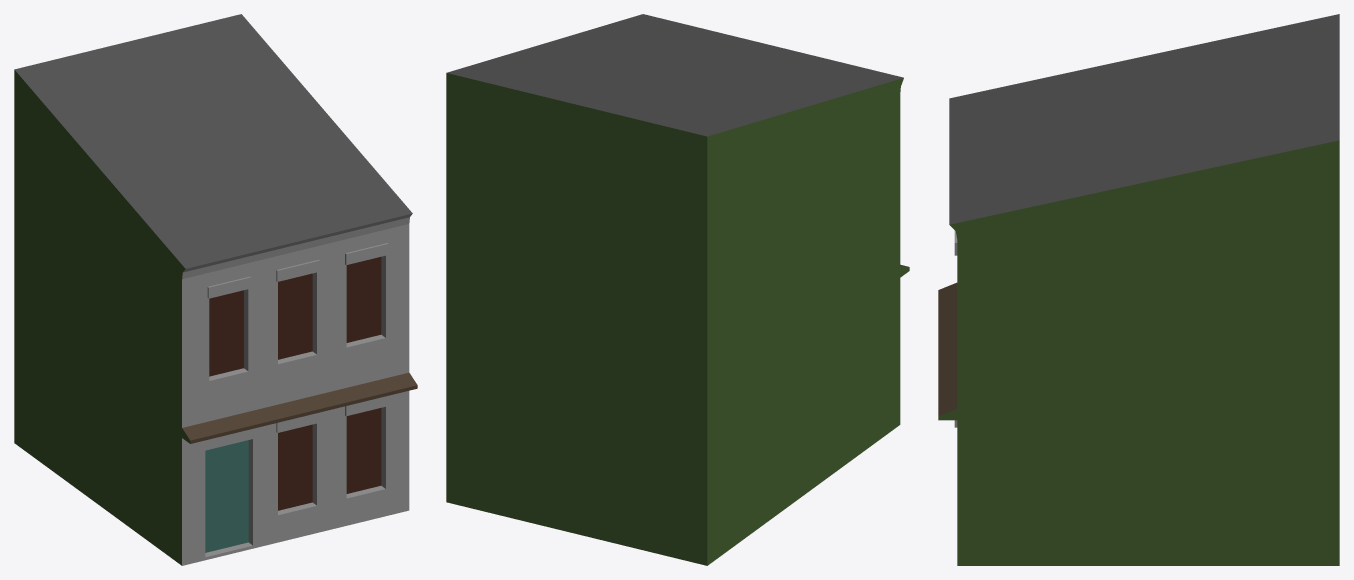
The model's file is House01.FBX.
The picture shows the model from 3 angles, left to right: view 1: azimuth 30°, elevation 25°; view 2: azimuth 150°, elevation 25°; view 3: azimuth 270°, elevation 25°; orthographic projection. The views are drawn at different scales.
Visible parts, largest first — view 1: Box01; view 2: Box01; view 3: Box01.
Part boxes in pixels (x1,y1,x2,y2): Box01: (14,14,417,565); Box01: (446,14,909,565); Box01: (938,14,1339,565).
Bounding box in the file's own units: 653 × 1026 × 876.
